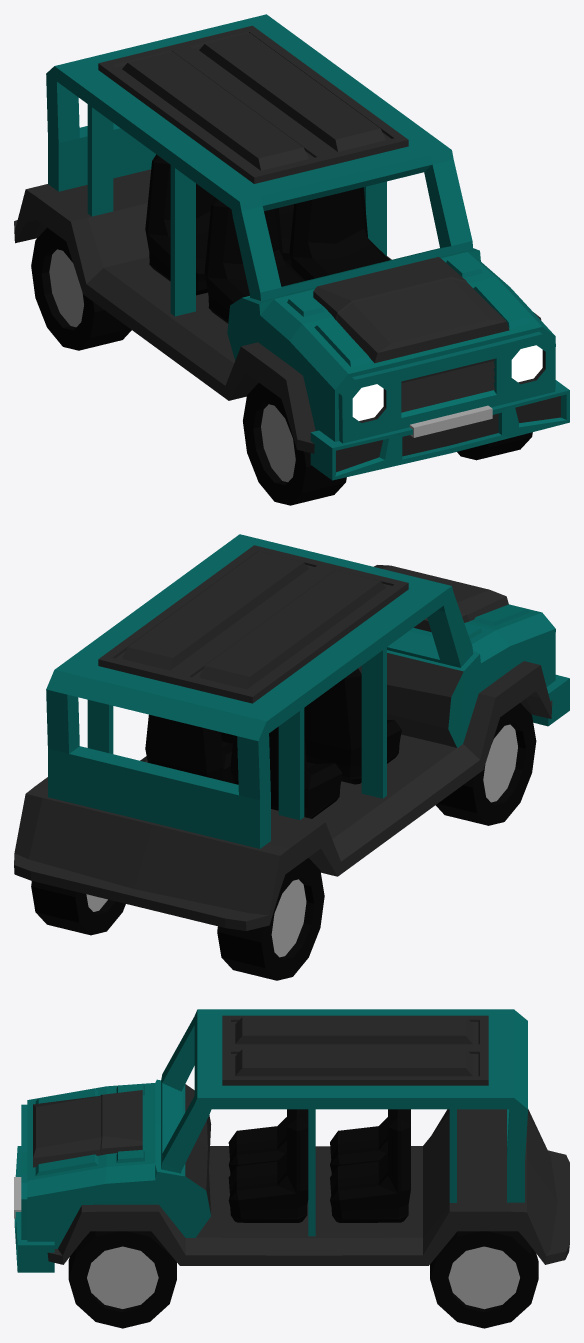
The model's file is Car.glb.
3 views of the same model, one above another, from view 1: azimuth 30°, elevation 25°; view 2: azimuth 150°, elevation 25°; view 3: azimuth 270°, elevation 25° (orthographic). The views are drawn at different scales.
Parts seen in each view (by area): view 1: Frame thingie, Chassis, Seats, Front chassis, Front chassis chassis, Hood, Front Bumper, Wheel Front.R, Wheel Back.R, Wheel Front.L; view 2: Frame thingie, Chassis, Front chassis, Seats, Wheel Back.R, Wheel Front.R, Wheel Back.L, Hood, Front Bumper; view 3: Frame thingie, Chassis, Seats, Front chassis, Wheel Front.L, Wheel Back.L, Hood, Front Bumper, Front chassis chassis.
Boxes of the visible parts, <box> form: Frame thingie: <box>46,14,473,316</box>; Chassis: <box>14,169,541,453</box>; Seats: <box>145,154,389,323</box>; Front chassis: <box>227,248,555,441</box>; Front chassis chassis: <box>338,331,555,443</box>; Hood: <box>313,257,509,363</box>; Front Bumper: <box>310,380,569,480</box>; Wheel Front.R: <box>243,383,346,505</box>; Wheel Back.R: <box>31,227,131,350</box>; Wheel Front.L: <box>457,432,532,460</box>; Frame thingie: <box>46,534,473,848</box>; Chassis: <box>14,661,552,930</box>; Front chassis: <box>358,604,555,747</box>; Seats: <box>145,668,401,818</box>; Wheel Back.R: <box>217,858,324,980</box>; Wheel Front.R: <box>435,703,536,825</box>; Wheel Back.L: <box>31,881,125,935</box>; Hood: <box>374,565,508,631</box>; Front Bumper: <box>531,674,569,726</box>; Frame thingie: <box>161,1009,527,1236</box>; Chassis: <box>47,1109,569,1265</box>; Seats: <box>228,1109,410,1222</box>; Front chassis: <box>27,1079,211,1248</box>; Wheel Front.L: <box>68,1231,176,1328</box>; Wheel Back.L: <box>430,1231,538,1328</box>; Hood: <box>33,1090,142,1167</box>; Front Bumper: <box>14,1146,54,1272</box>; Front chassis chassis: <box>21,1104,27,1239</box>.
Size of the model in its own units: 6.6 by 6.91 by 14.61.
